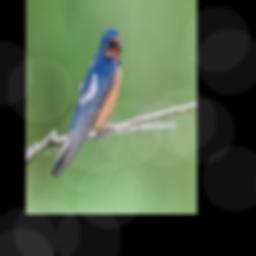Swallow: (51, 29, 123, 178)
